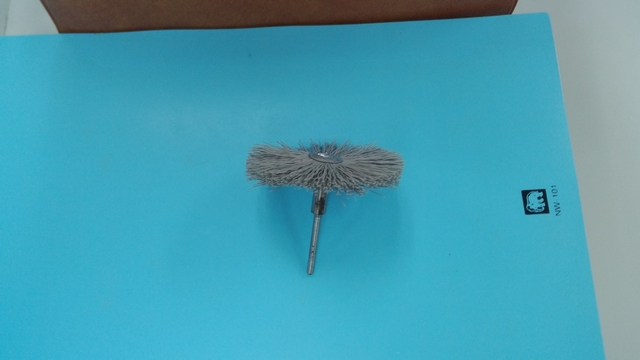TOOL: (231, 131, 461, 316), (201, 120, 414, 252)
